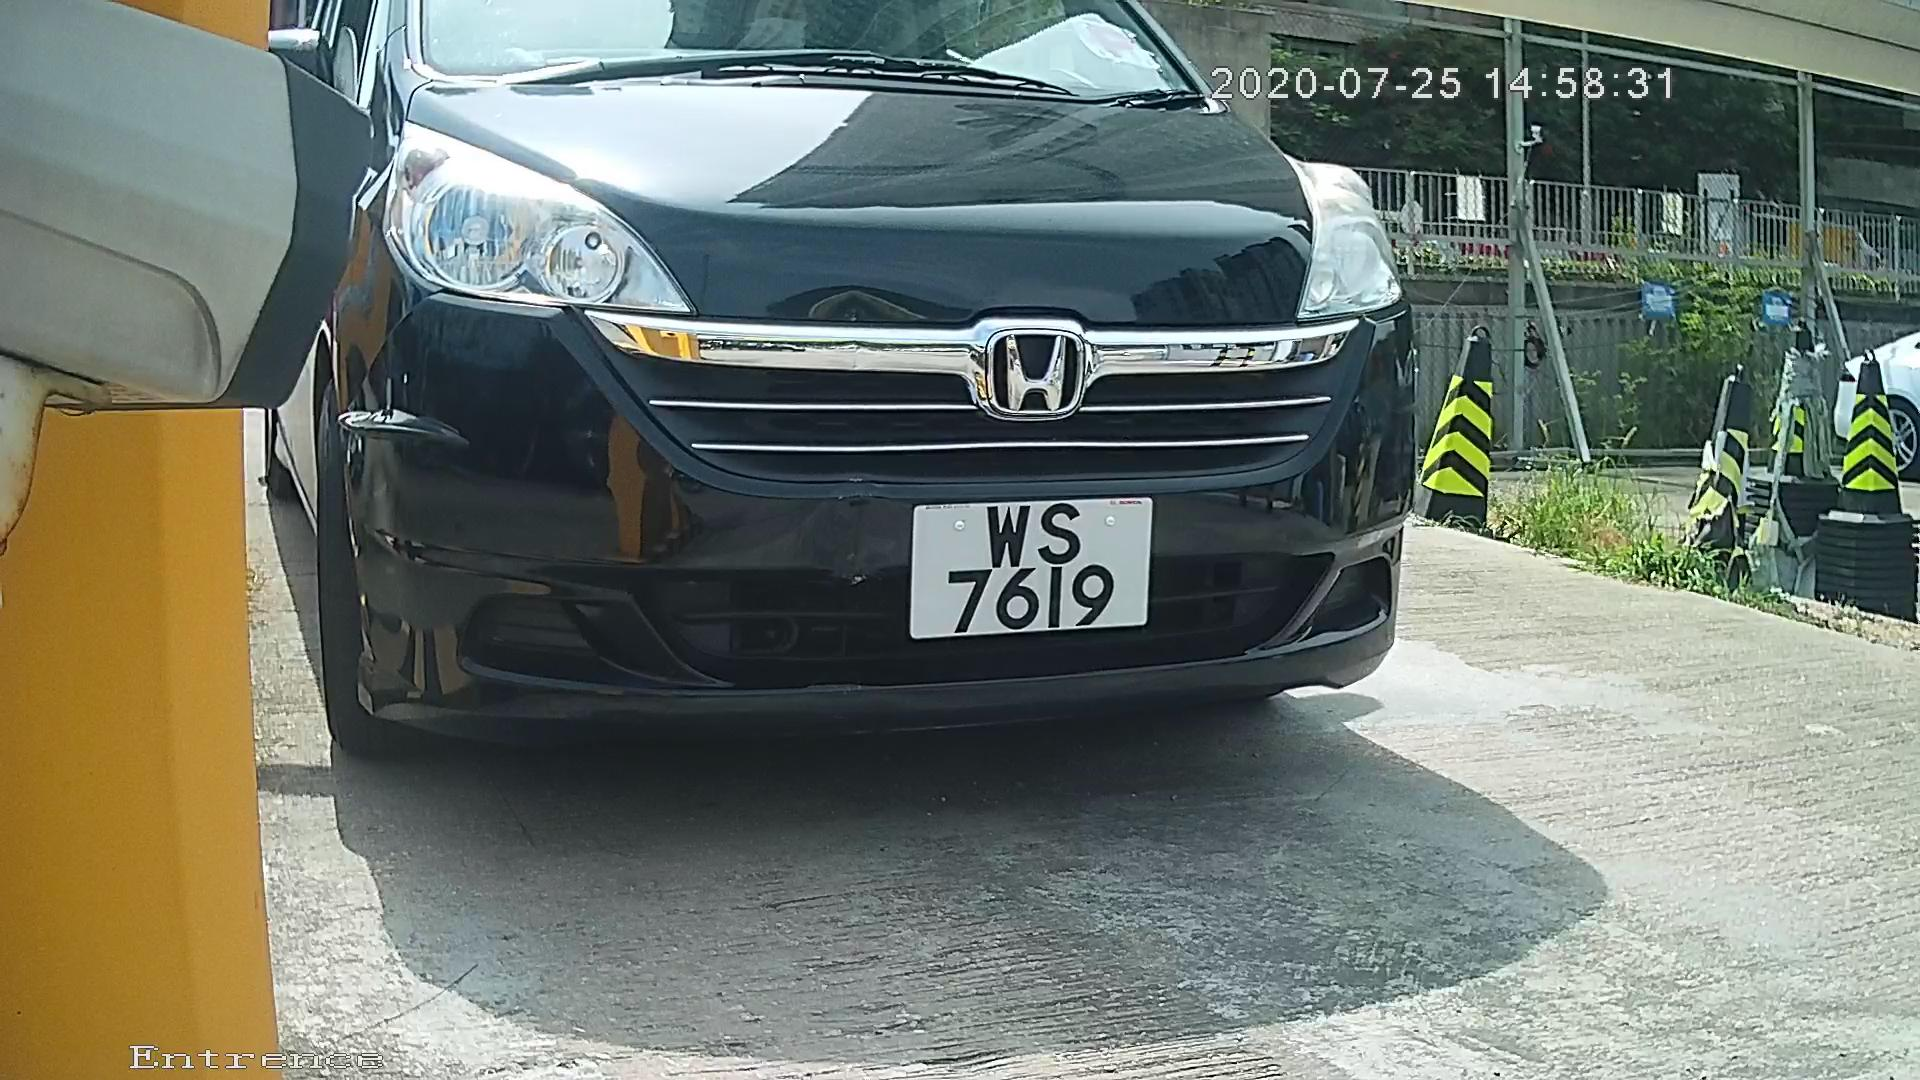License Plate: (883, 478, 1175, 661)
